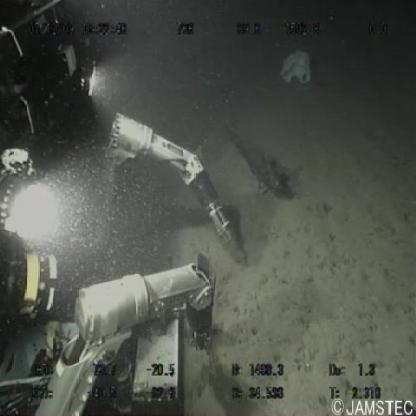Bio: (224, 116, 298, 202)
Rov: (1, 1, 246, 416)
Rác: (278, 46, 315, 92)
